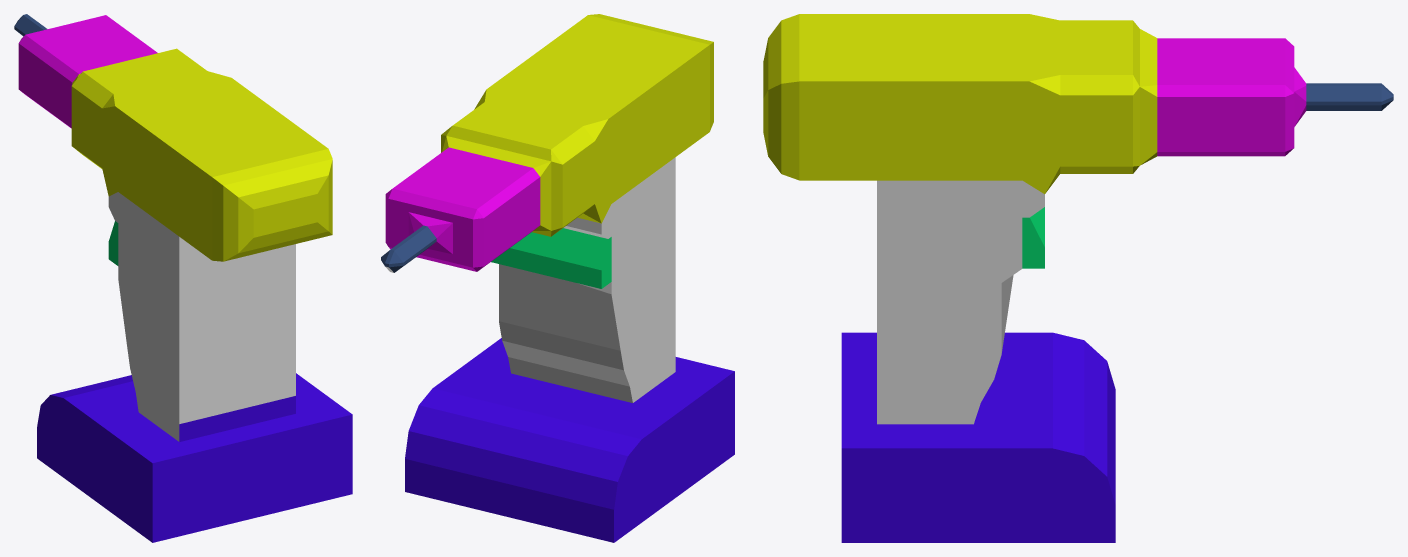
The model's file is Drill.fbx.
3 renders of one model, left to right at view 1: azimuth 30°, elevation 25°; view 2: azimuth 150°, elevation 25°; view 3: azimuth 270°, elevation 25°, orthographic. The views are drawn at different scales.
Parts seen in each view (by area): view 1: Cube; view 2: Cube; view 3: Cube.
Part boxes in pixels (bbox=[...]): Cube: bbox=[14, 14, 352, 542]; Cube: bbox=[381, 14, 734, 542]; Cube: bbox=[763, 14, 1393, 542].
Size of the model in its own units: 200 by 352 by 460.
